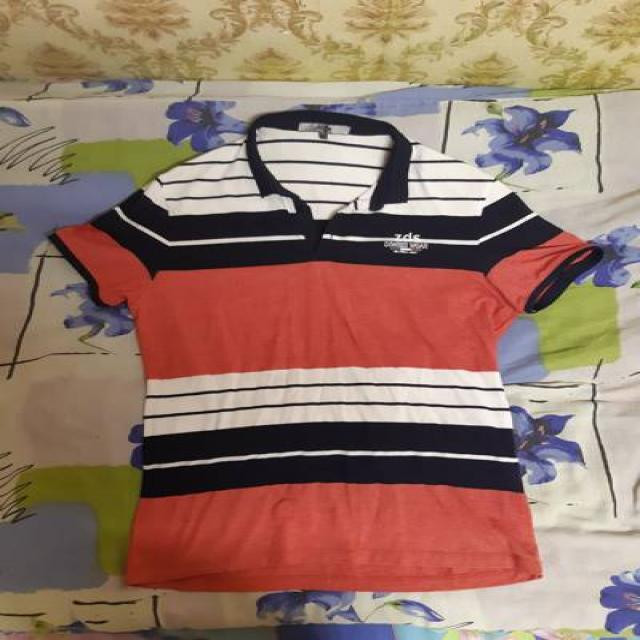Clothes -Biodegradable-: (48, 110, 606, 592)
